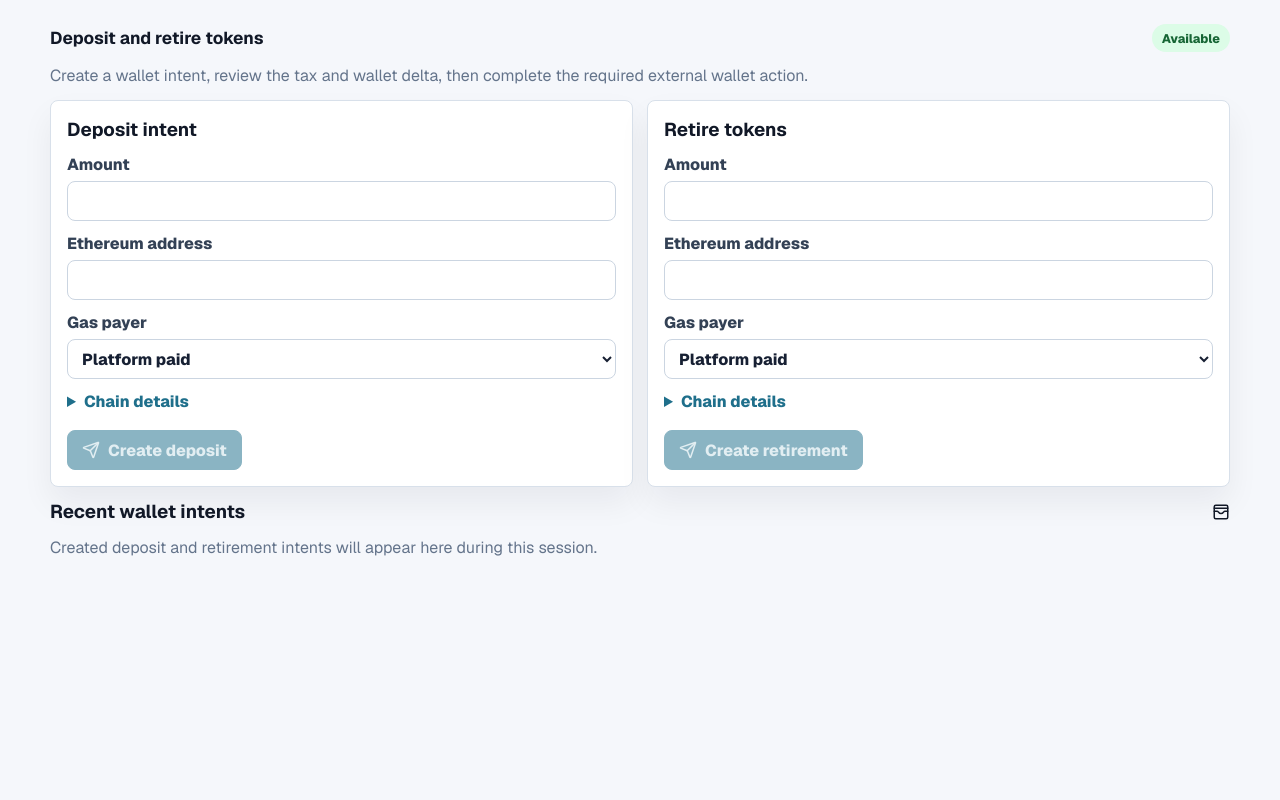
Scenario: WalletTransferPanel › shows retirement backend errors without clearing local form state
The image size is (1280, 800).
Expected: the form "Retire tokens" is shown, [647,100,1230,487]
Step 1. Type "999" into the 2nd number field labelled "Amount" → (938, 201), box [664,181,1213,221]
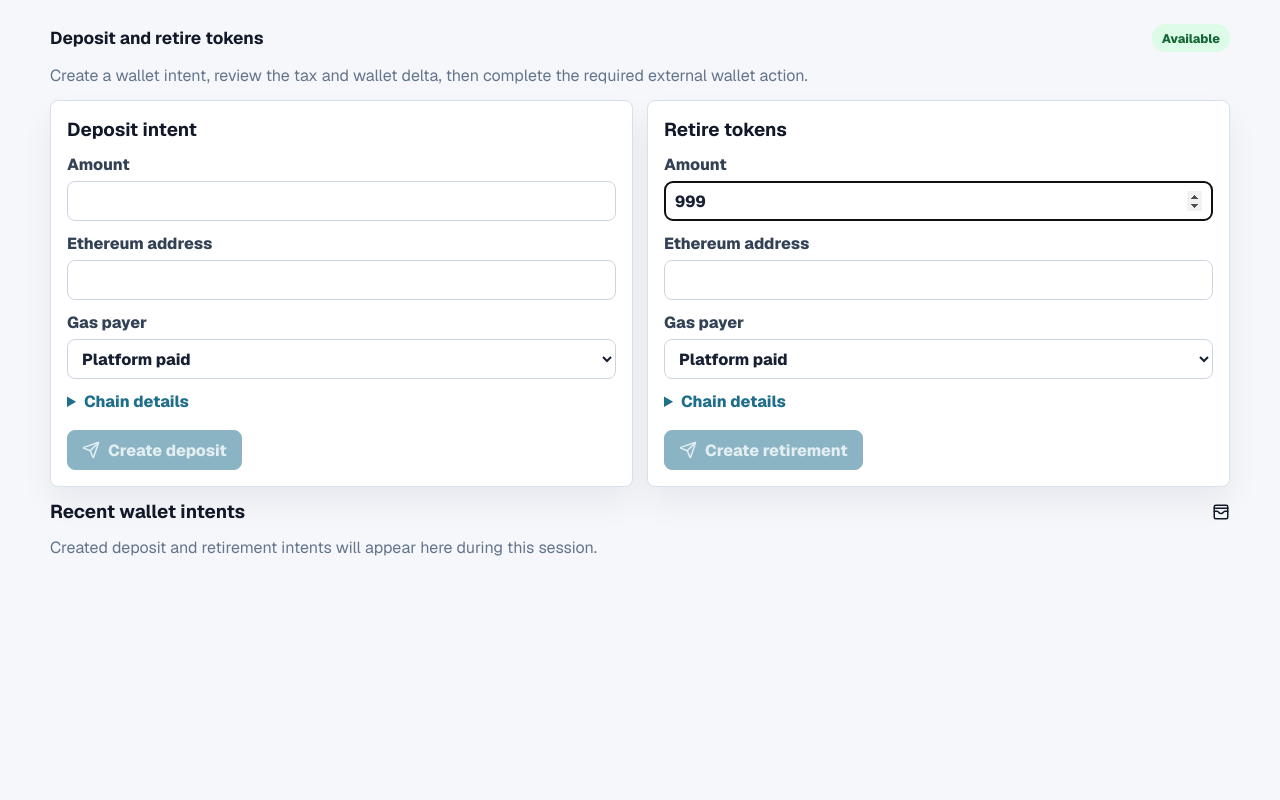
Step 2. Type "0xwallet" into the 2nd field labelled "Ethereum address" → (938, 280), box [664,260,1213,300]
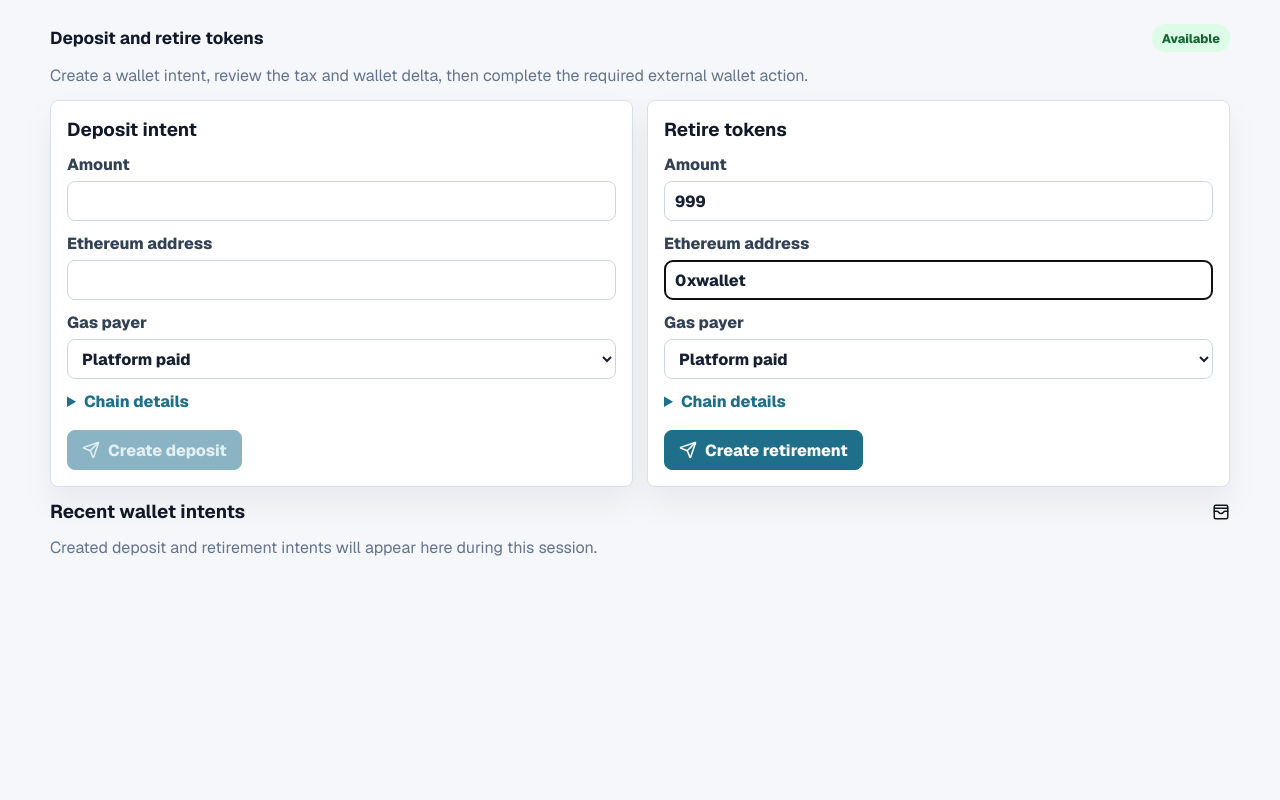
Step 3. Click the button "Create retirement" → (763, 450), box [664,430,863,470]
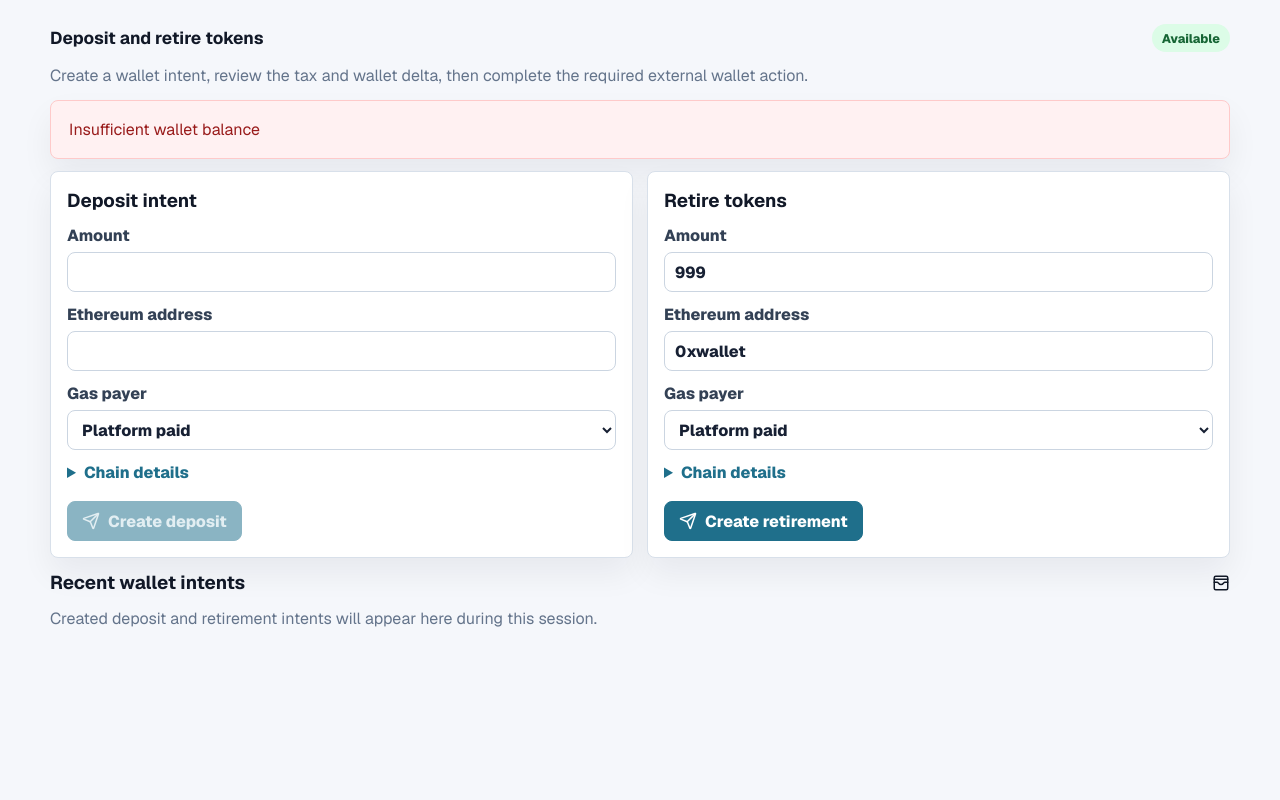
Expected: the text "Insufficient wallet balance" is shown, [50,100,1230,159]
